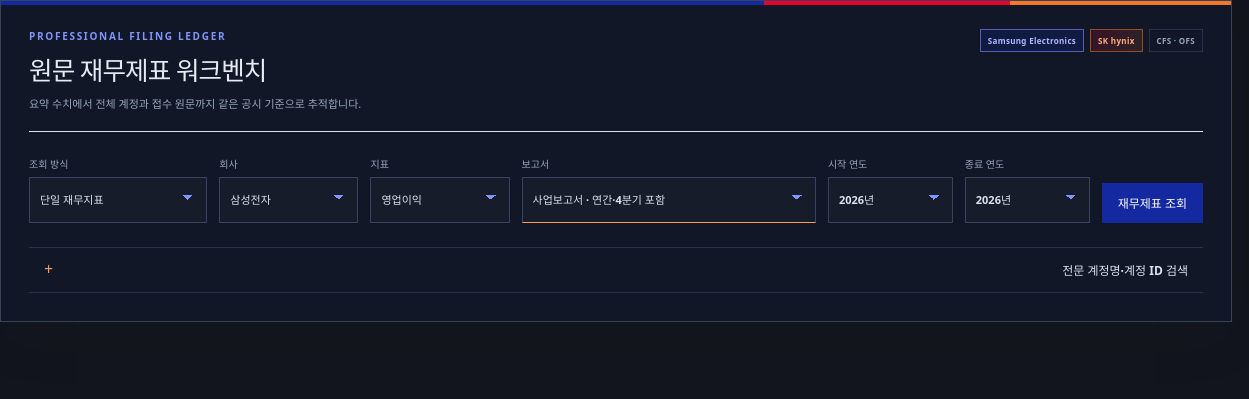
Scenario: FinancialExplorer › CORPUS_INCOMPLETE 코드를 공시 일정에 맞는 사용자 안내로 바꾼다
The width and height of the screenshot is (1249, 399).
Click the button "재무제표 조회": (1152, 203) [1102, 183, 1203, 223]
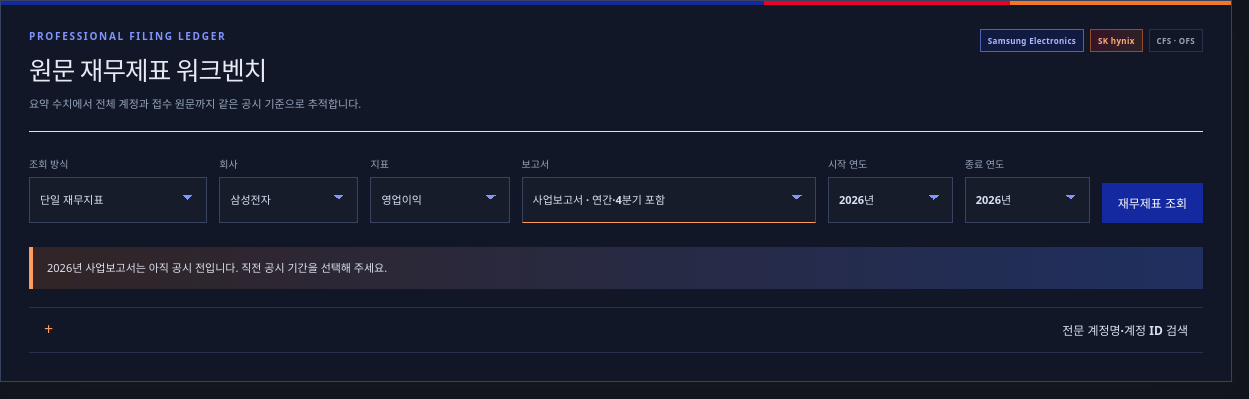
Check: the text "2026년 사업보고서는 아직 공시 전입니다. 직전 공시 기간을 선택해 주세요." is shown, box [29, 247, 1203, 289]
